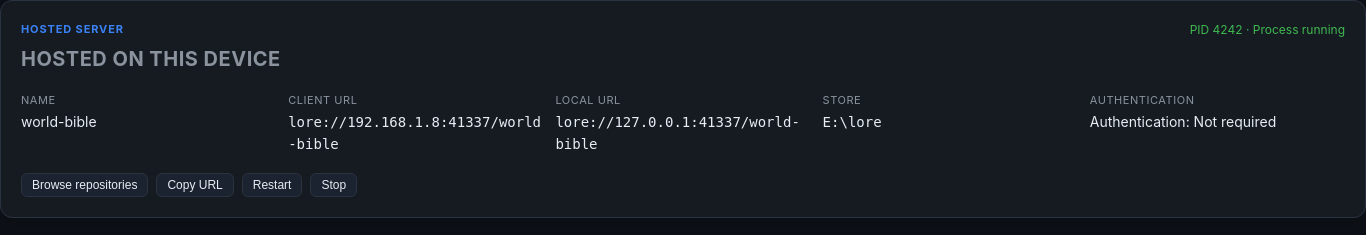
HostedServerCard › invalidates a pending copy when the hosted URL changes
This screenshot has width=1366, height=235.
Click the button "Copy URL".
click(195, 185)  # box 156,173 -> 234,197
Wait 25 ms
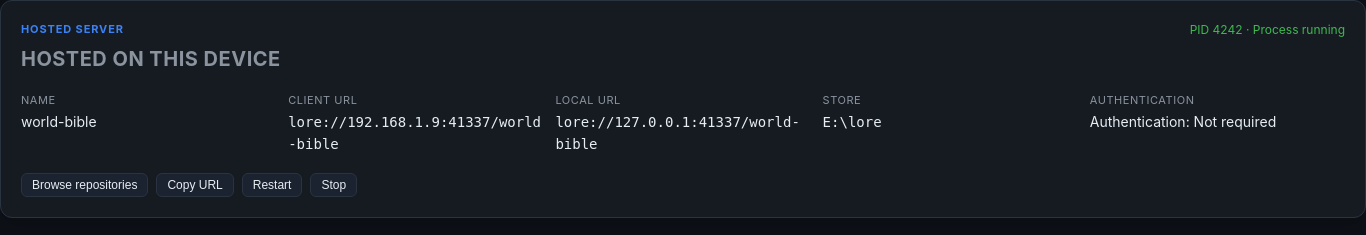
Check: the text "lore://192.168.1.9:41337/world-bible" is shown, box 288,114 -> 541,152
